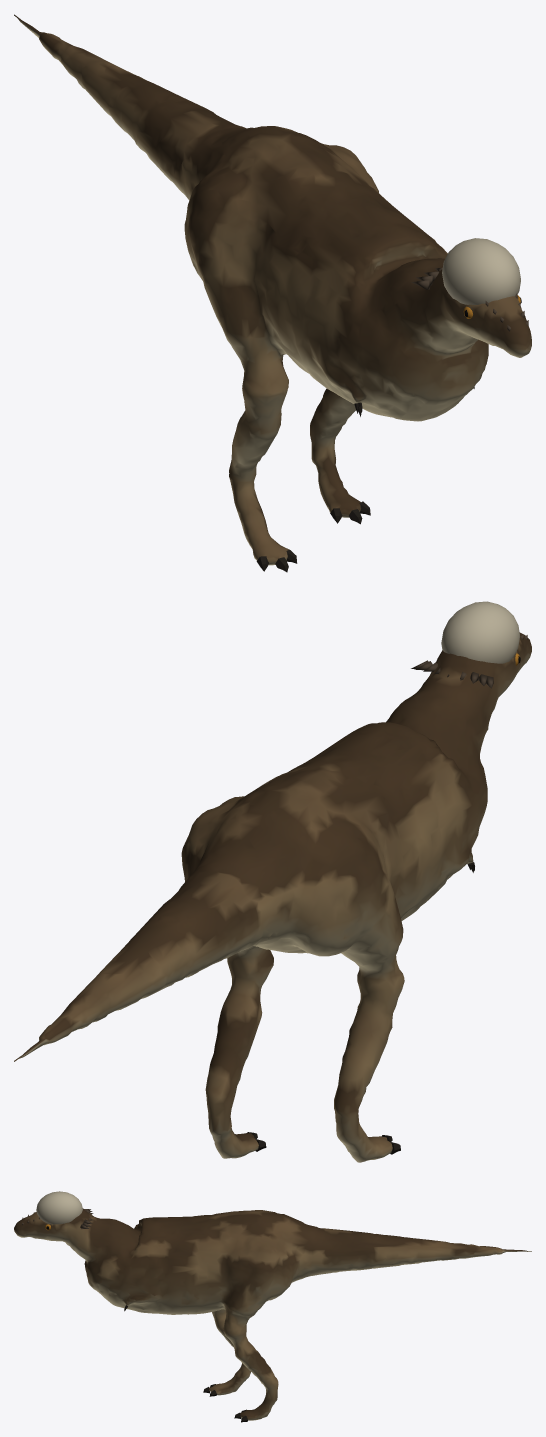
Rendered from Pachycephalosaurus.fbx.
3 renders of one model, top to bottom at view 1: azimuth 30°, elevation 25°; view 2: azimuth 150°, elevation 25°; view 3: azimuth 270°, elevation 25°, orthographic. The views are drawn at different scales.
Parts seen in each view (by area): view 1: Pachycephalosaurus; view 2: Pachycephalosaurus; view 3: Pachycephalosaurus.
Part boxes in pixels (left/top/right/bottom): Pachycephalosaurus: left=14, top=14, right=531, bottom=572; Pachycephalosaurus: left=14, top=601, right=531, bottom=1162; Pachycephalosaurus: left=14, top=1191, right=531, bottom=1422.
Size of the model in its own units: 0.3443 by 0.7556 by 1.66.
